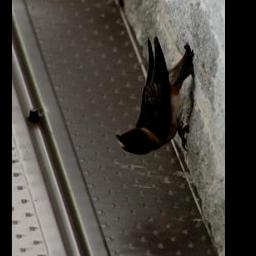Swallow: (116, 37, 198, 155)
